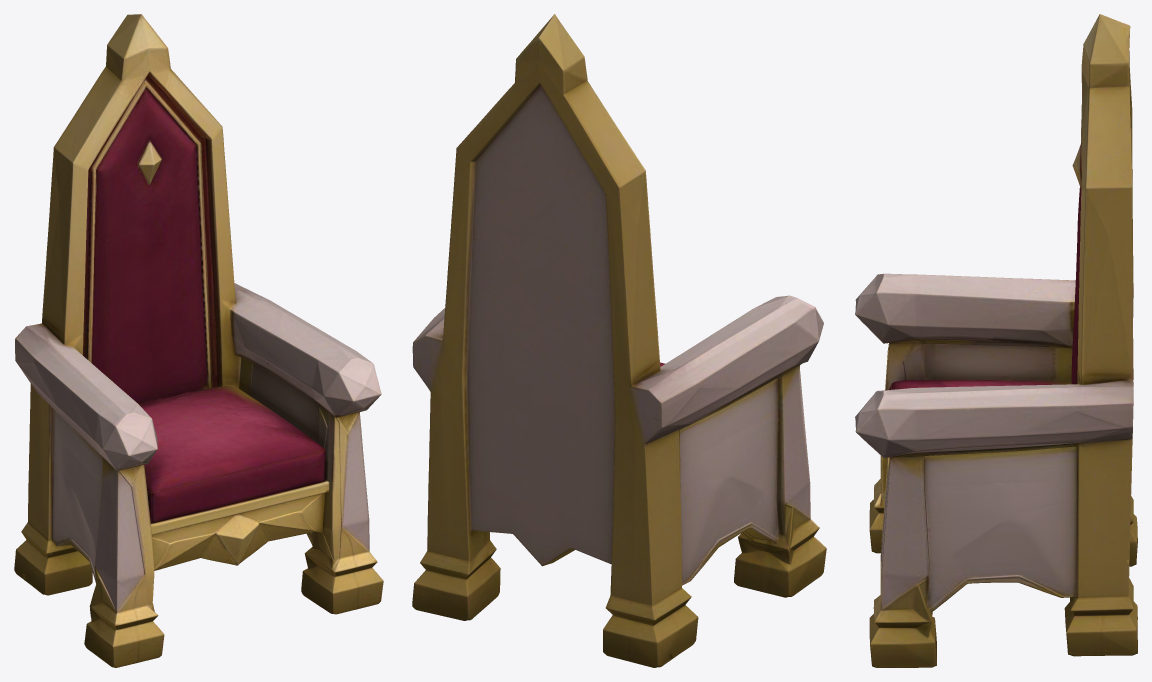
Rendered from king_throne.glb.
3 views of the same model, side by side, from view 1: azimuth 30°, elevation 25°; view 2: azimuth 150°, elevation 25°; view 3: azimuth 270°, elevation 25° (orthographic). The views are drawn at different scales.
Visible parts, largest first — view 1: node_0; view 2: node_0; view 3: node_0.
Part boxes in pixels (x1=…): node_0: x1=14, y1=14, x2=383, y2=667; node_0: x1=412, y1=14, x2=826, y2=667; node_0: x1=855, y1=14, x2=1137, y2=667.
Bounding box in the file's own units: 0.5343 × 1.01 × 0.4446.
1 material, 1 textured.
